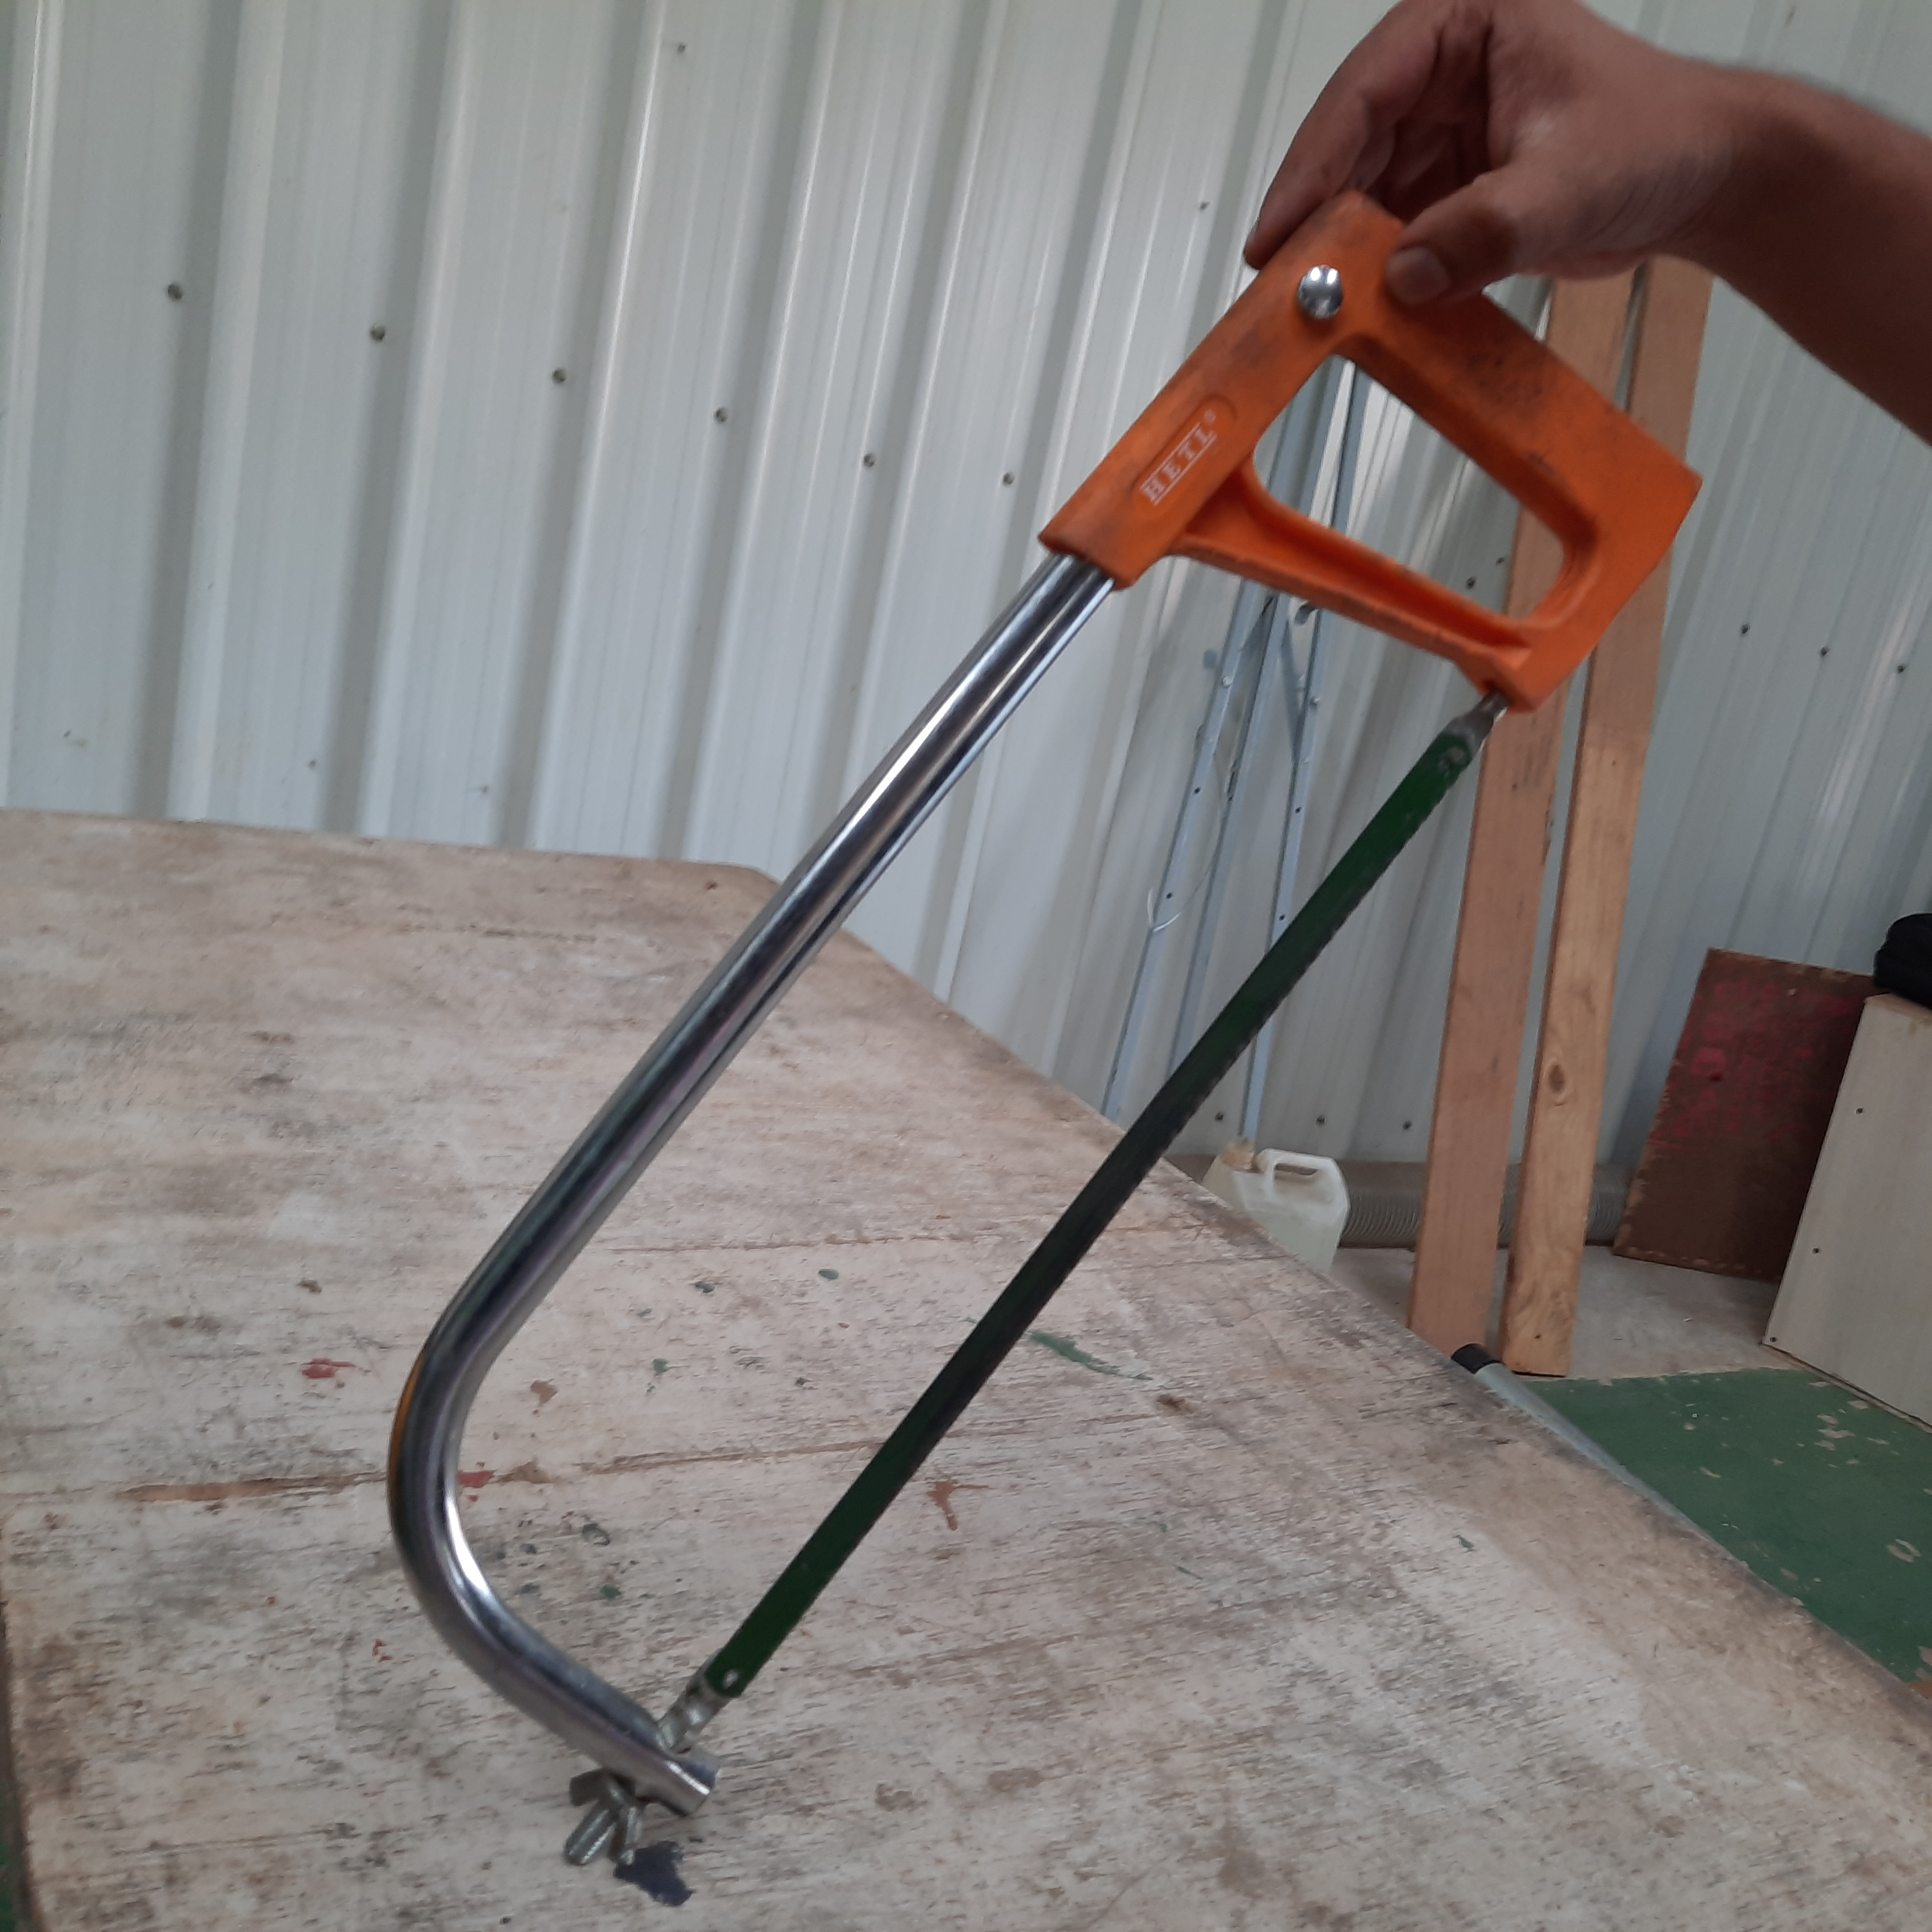Hexaframe: (380, 163, 1736, 1905)
